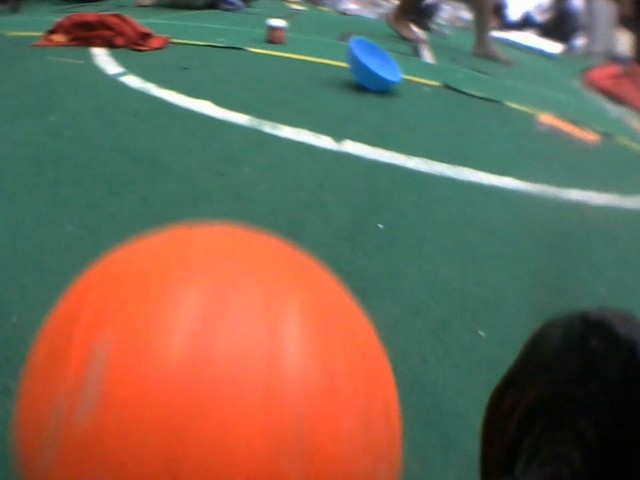ball: (7, 214, 409, 480)
